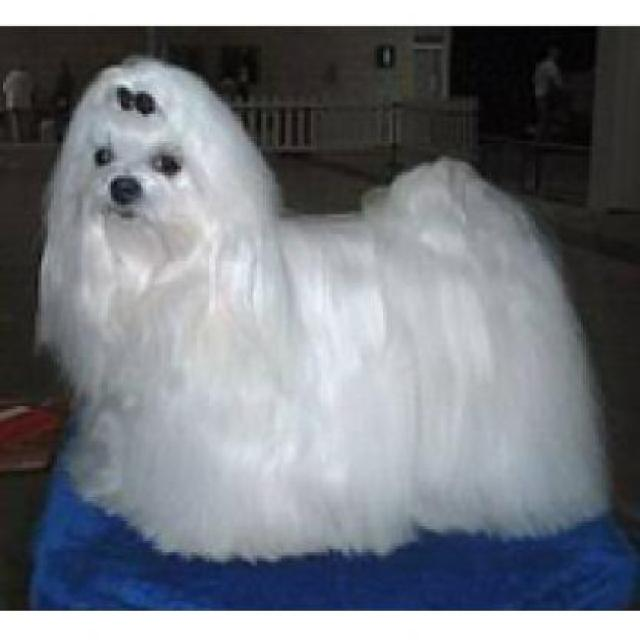Dog: (34, 53, 615, 564)
